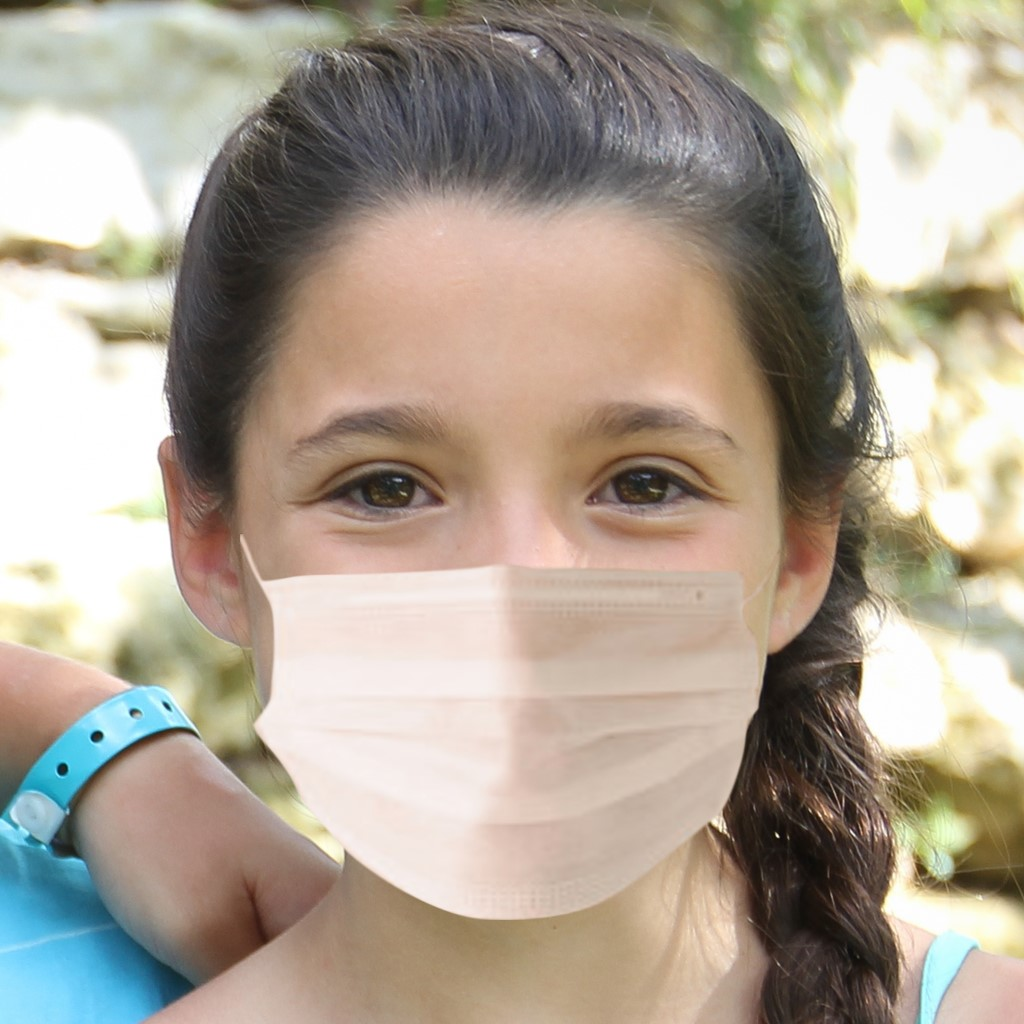con_mascara: (187, 134, 845, 931)
